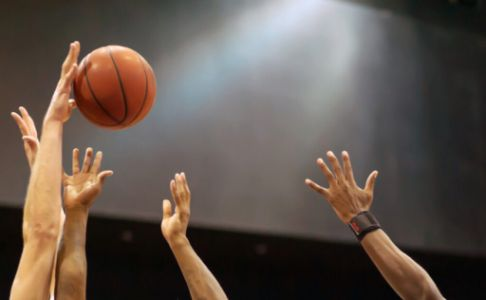baloncesto: (73, 45, 156, 129)
